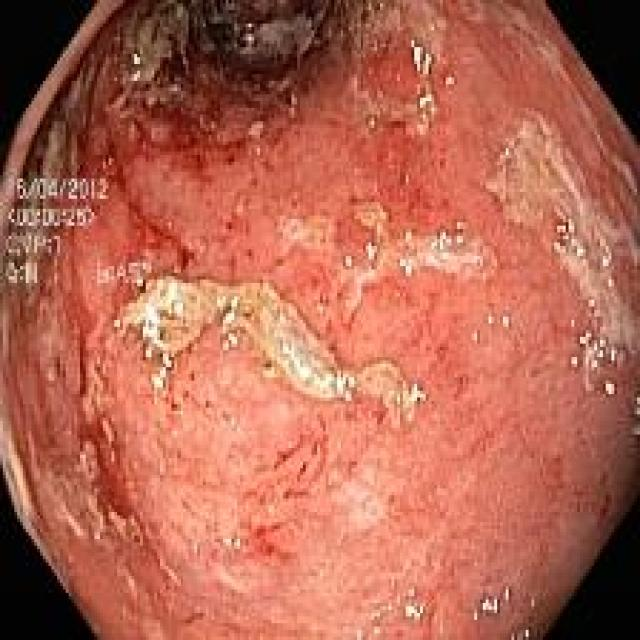ulcerative-colitis-grade-3: (0, 3, 640, 640)
